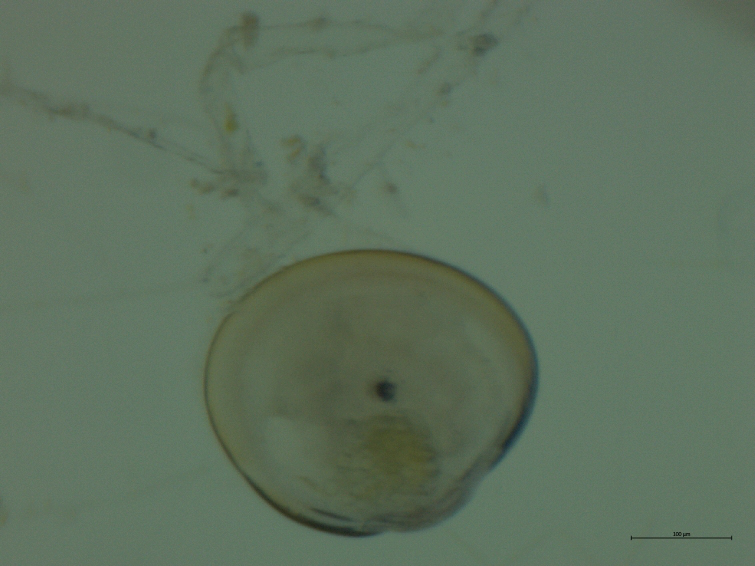oyster: (189, 239, 557, 547)
